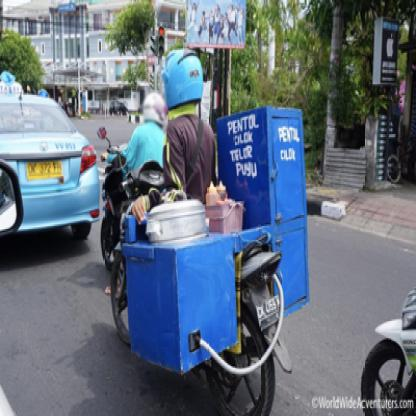Helmet: (159, 47, 208, 113), (140, 91, 169, 124)
